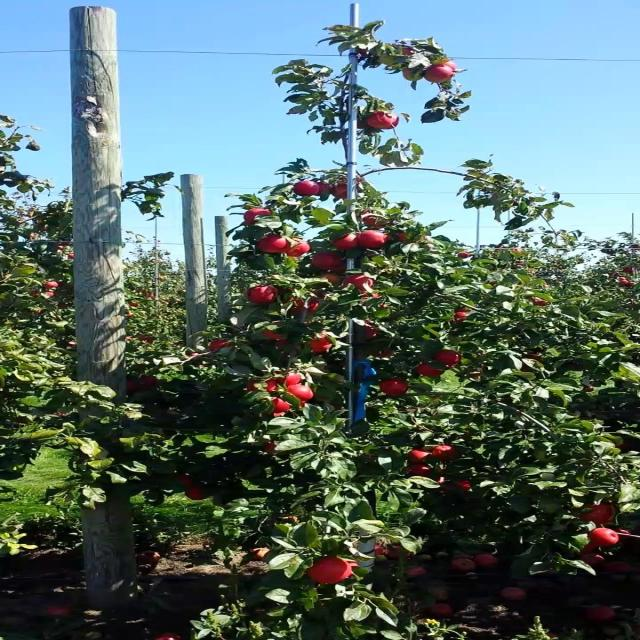apple: (305, 560, 354, 585), (582, 504, 617, 524), (127, 376, 162, 395), (355, 232, 389, 250), (589, 528, 620, 547), (369, 112, 398, 131), (440, 476, 473, 492), (248, 288, 279, 304), (284, 240, 313, 257), (383, 380, 412, 397), (312, 252, 341, 269), (134, 376, 162, 393), (262, 236, 288, 254), (248, 380, 279, 395), (426, 68, 455, 84), (348, 276, 377, 292), (433, 352, 462, 367), (291, 300, 320, 315), (440, 480, 473, 493), (404, 464, 434, 478), (184, 352, 212, 367), (333, 236, 359, 252), (205, 340, 235, 353), (276, 372, 306, 385), (291, 384, 315, 400), (312, 336, 334, 353), (269, 396, 292, 412), (582, 544, 604, 560), (433, 448, 460, 461), (419, 364, 443, 378), (184, 488, 208, 501), (262, 328, 286, 341), (362, 216, 386, 229), (248, 212, 272, 224), (284, 400, 308, 411), (362, 212, 379, 227), (362, 292, 384, 303), (333, 184, 348, 200), (362, 216, 382, 228), (276, 516, 300, 526), (177, 476, 196, 488), (412, 452, 432, 463), (362, 328, 382, 339), (376, 348, 396, 359), (340, 176, 364, 185), (440, 60, 459, 71), (262, 412, 286, 420), (525, 352, 544, 362), (262, 444, 279, 455), (404, 68, 418, 81), (298, 184, 313, 196), (319, 184, 334, 196), (397, 232, 412, 243), (454, 312, 469, 323), (376, 544, 389, 556), (362, 212, 375, 224), (326, 276, 343, 285), (269, 412, 286, 420), (333, 264, 348, 273), (532, 300, 548, 308), (312, 292, 327, 300), (454, 316, 468, 324), (404, 48, 416, 56)
